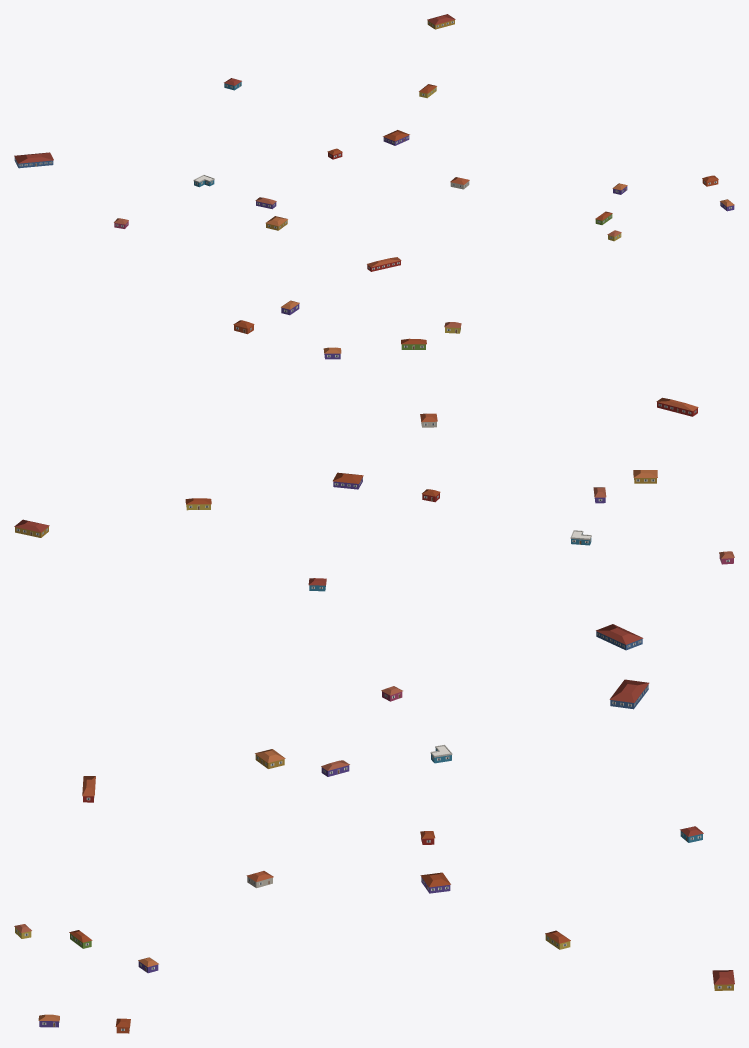
Rendered from msb_oranjestad_m10_2.glb.
3 views of the same model, one above another, from view 1: azimuth 30°, elevation 25°; view 2: azimuth 150°, elevation 25°; view 3: azimuth 270°, elevation 25° (orthographic). The views are drawn at different scales.
Visible parts, largest first — view 1: msb_oranjestad_m10_2_lod0; view 2: msb_oranjestad_m10_2_lod0; view 3: msb_oranjestad_m10_2_lod0.
Boxes of the visible parts, x1=… form: msb_oranjestad_m10_2_lod0: x1=14, y1=14, x2=734, y2=271; msb_oranjestad_m10_2_lod0: x1=14, y1=300, x2=734, y2=650; msb_oranjestad_m10_2_lod0: x1=14, y1=679, x2=734, y2=1033.
Size of what is drawn, in the model's own units: 389 by 14.01 by 347.
Materials: 3 (1 with a texture image).
